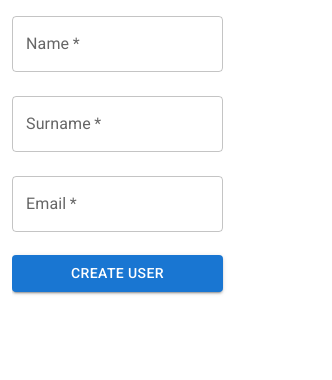
Test case: UserForm › should display email input › with correct email error
This screenshot has width=332, height=380.
Type "notCorrectEmail" into the field labelled "Email *" at (118, 204), box [12,176,223,232]
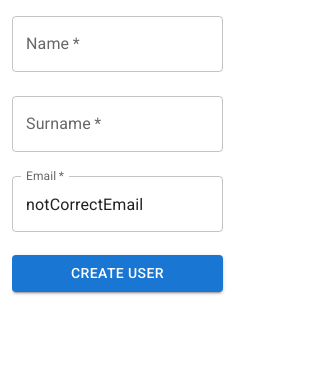
Click the button "Create User" at (118, 273), box [12,255,223,292]
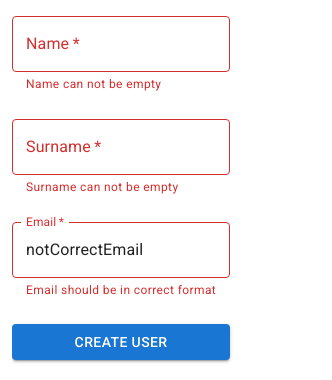
expect the text "Email should be in correct format" is shown: met, box [26,281,216,301]
